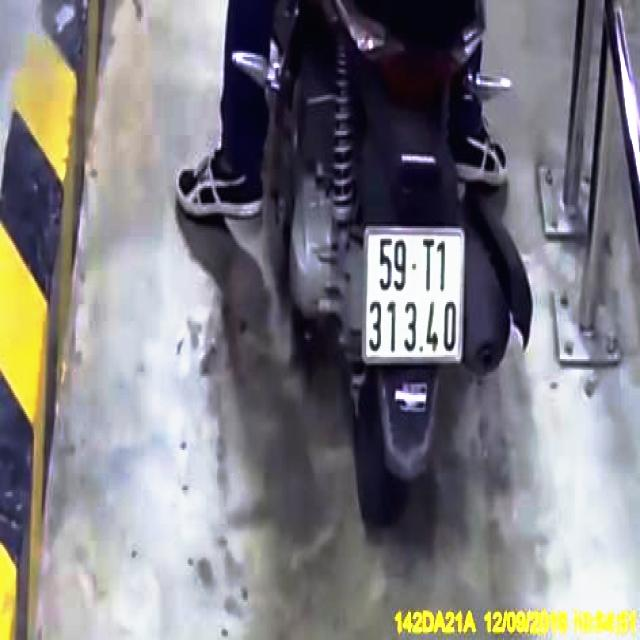license_plate: (367, 229, 468, 356)
